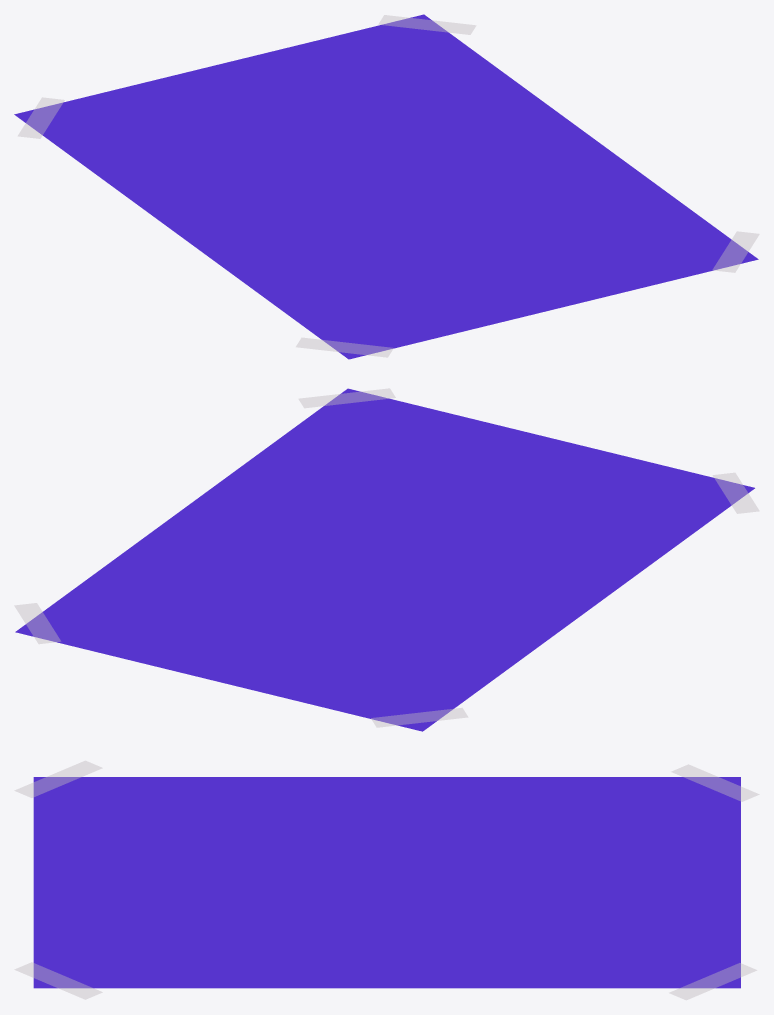
File: A3Poster.fbx
3 views of the same model, one above another, from view 1: azimuth 30°, elevation 25°; view 2: azimuth 150°, elevation 25°; view 3: azimuth 270°, elevation 25° (orthographic). The views are drawn at different scales.
Parts seen in each view (by area): view 1: Plane, Plane.003, Plane.002, Plane.001, Plane.004; view 2: Plane, Plane.004, Plane.001, Plane.002, Plane.003; view 3: Plane, Plane.002, Plane.003, Plane.001, Plane.004.
Part boxes in pixels (x1,y1,x2,y2): Plane: (14,14,758,359); Plane.003: (713,231,759,272); Plane.002: (18,97,64,138); Plane.001: (296,338,393,357); Plane.004: (378,15,475,34); Plane: (15,388,754,731); Plane.004: (14,603,60,643); Plane.001: (713,473,759,513); Plane.002: (371,708,467,727); Plane.003: (299,388,395,407); Plane: (33,777,740,988); Plane.002: (671,764,759,801); Plane.003: (14,962,102,999); Plane.001: (14,761,102,797); Plane.004: (669,963,756,999).
Size of the model in its own units: 33.73 by 0.1 by 44.31.
